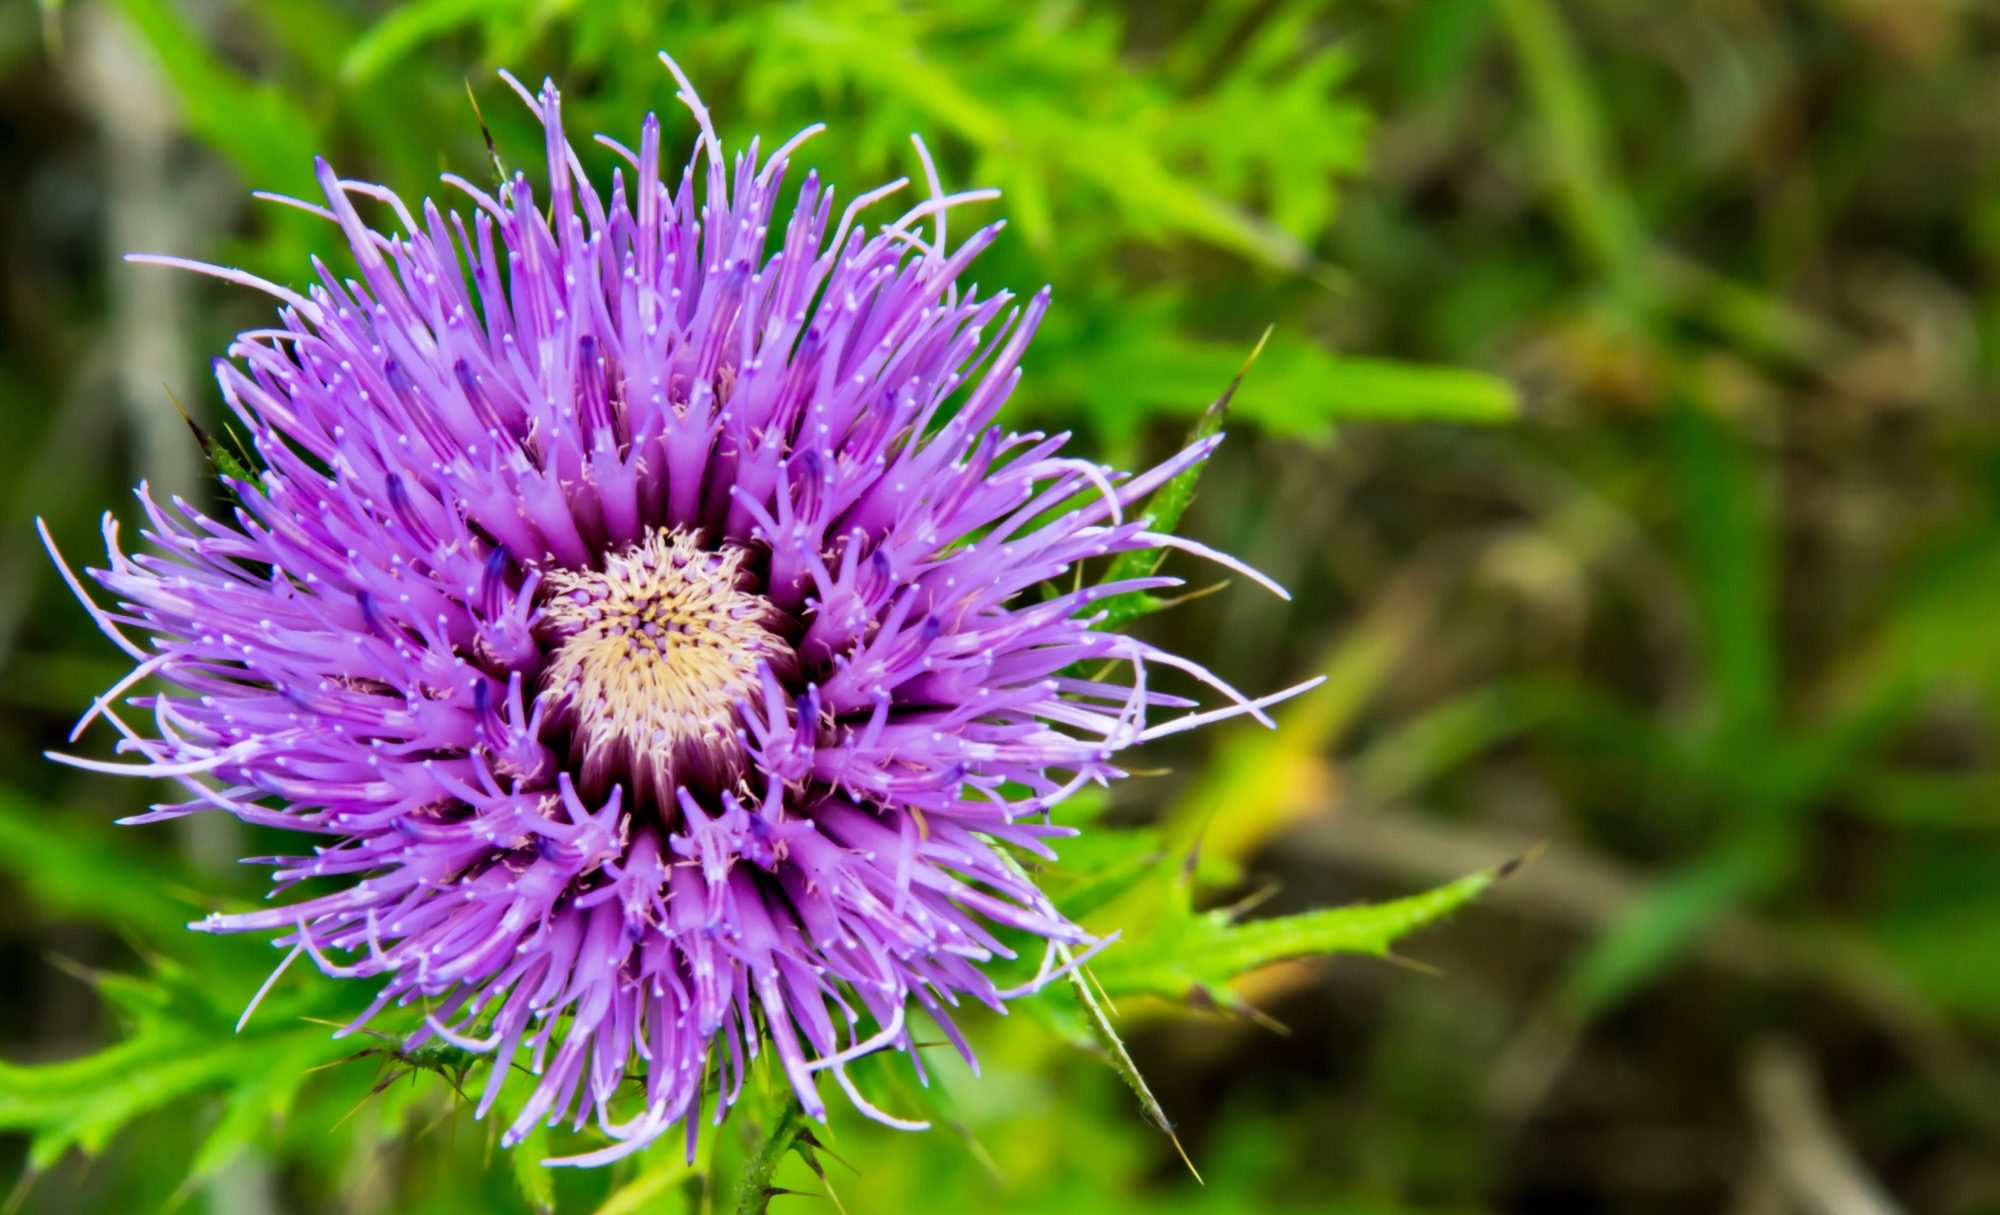thistle: (106, 114, 1519, 1215)
